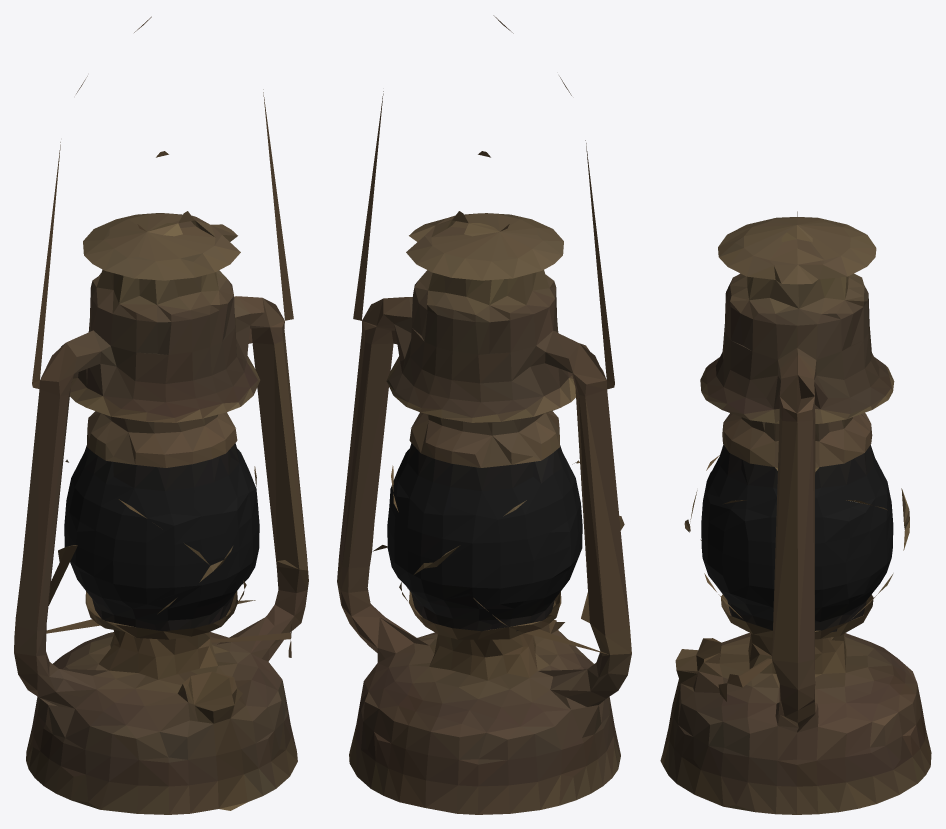
3 views of the same model, side by side, from view 1: azimuth 30°, elevation 25°; view 2: azimuth 150°, elevation 25°; view 3: azimuth 270°, elevation 25° (orthographic).
Bounding box in the file's own units: 0.7272 × 1.77 × 0.5827.
